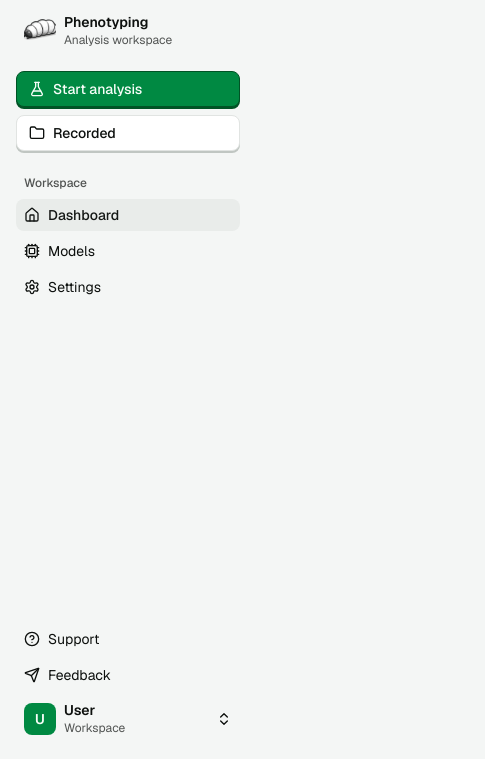
Sidebar › opens the profile menu
Click the button with aria-label "profile menu" at [128, 719], box 16,695 -> 240,743
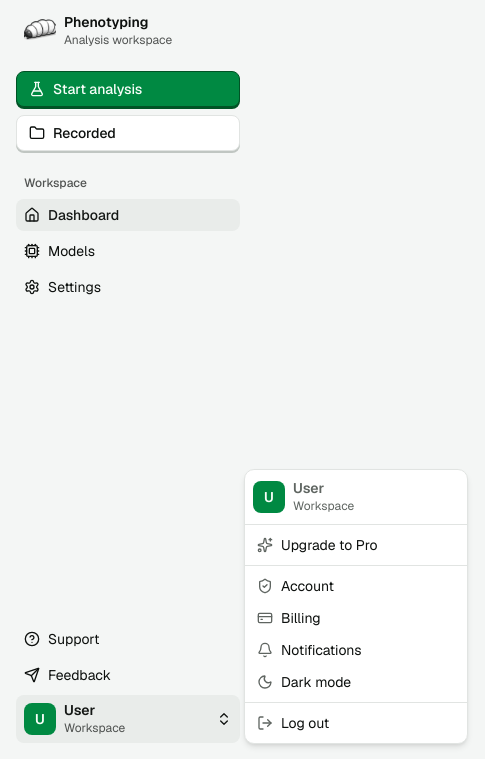
Now the menu item "Account" is shown, box 257,576 -> 334,594
Now the menu item "Log out" is shown, box 257,714 -> 329,732
